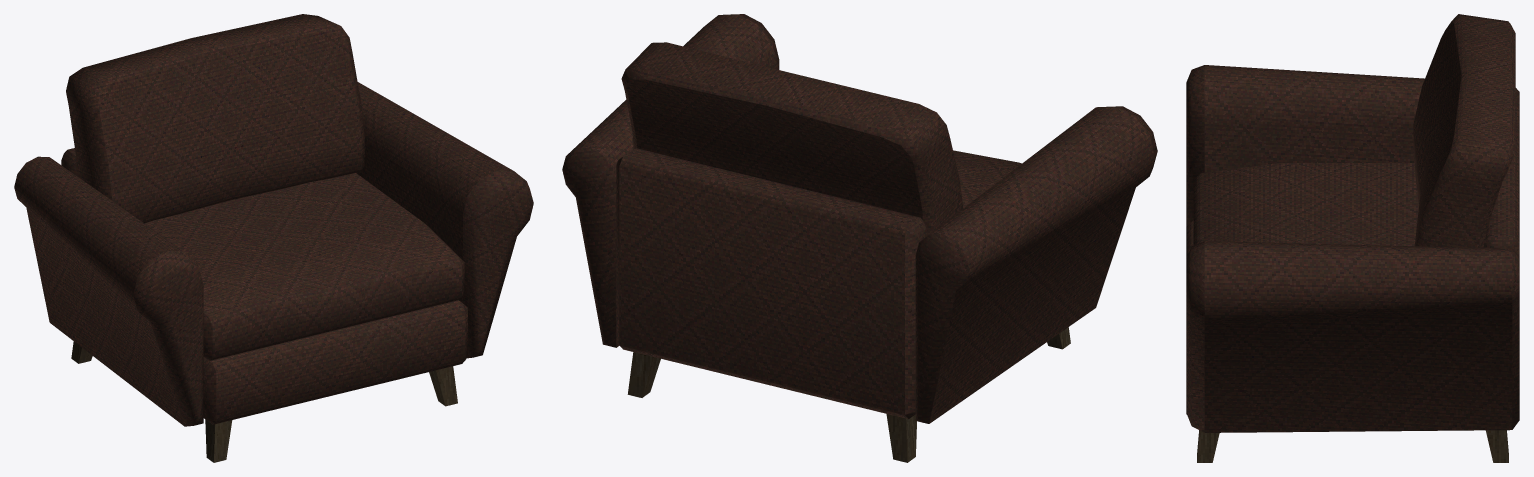
The model's file is armchair_1.glb.
The picture shows the model from 3 angles, left to right: view 1: azimuth 30°, elevation 25°; view 2: azimuth 150°, elevation 25°; view 3: azimuth 270°, elevation 25°; orthographic projection. The views are drawn at different scales.
Visible parts, largest first — view 1: armchair_1; view 2: armchair_1; view 3: armchair_1.
Boxes of the visible parts, <box> form: armchair_1: <box>14,14,533,462</box>; armchair_1: <box>562,14,1157,462</box>; armchair_1: <box>1186,14,1519,462</box>.
Size of the model in its own units: 1.49 by 1.07 by 0.99.
Materials: 2 (2 with a texture image).
